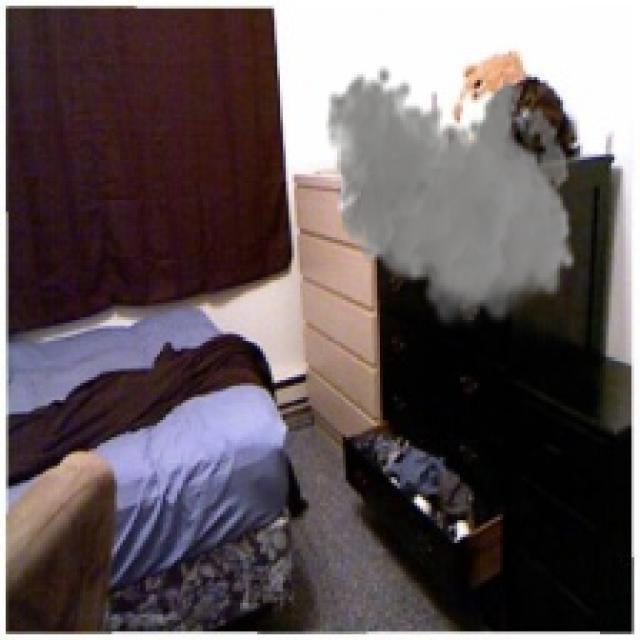Smoke: (326, 66, 578, 334)
